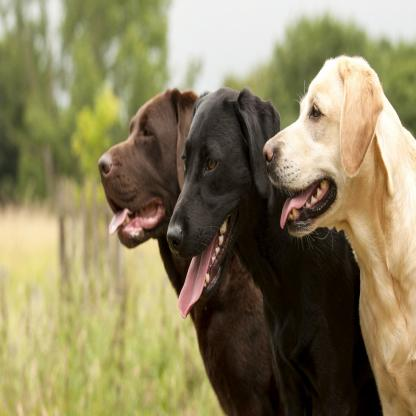Labarador Retriever: (166, 82, 383, 416), (99, 91, 286, 411), (264, 56, 415, 416)
